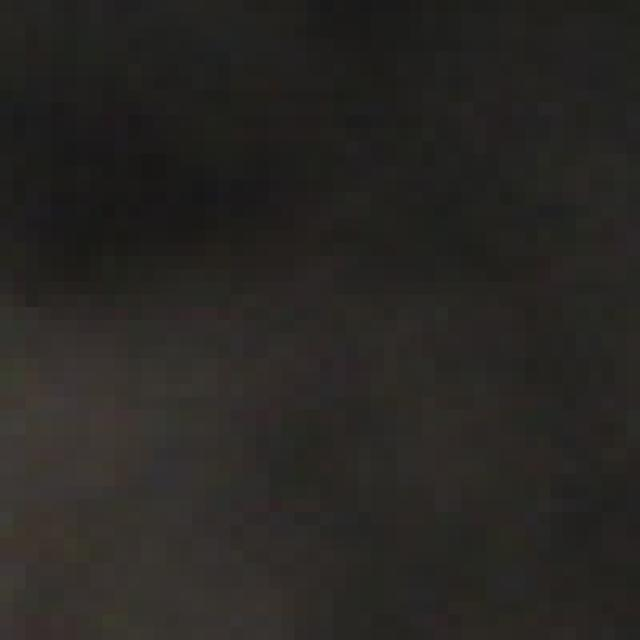fire: (41, 14, 640, 639)
